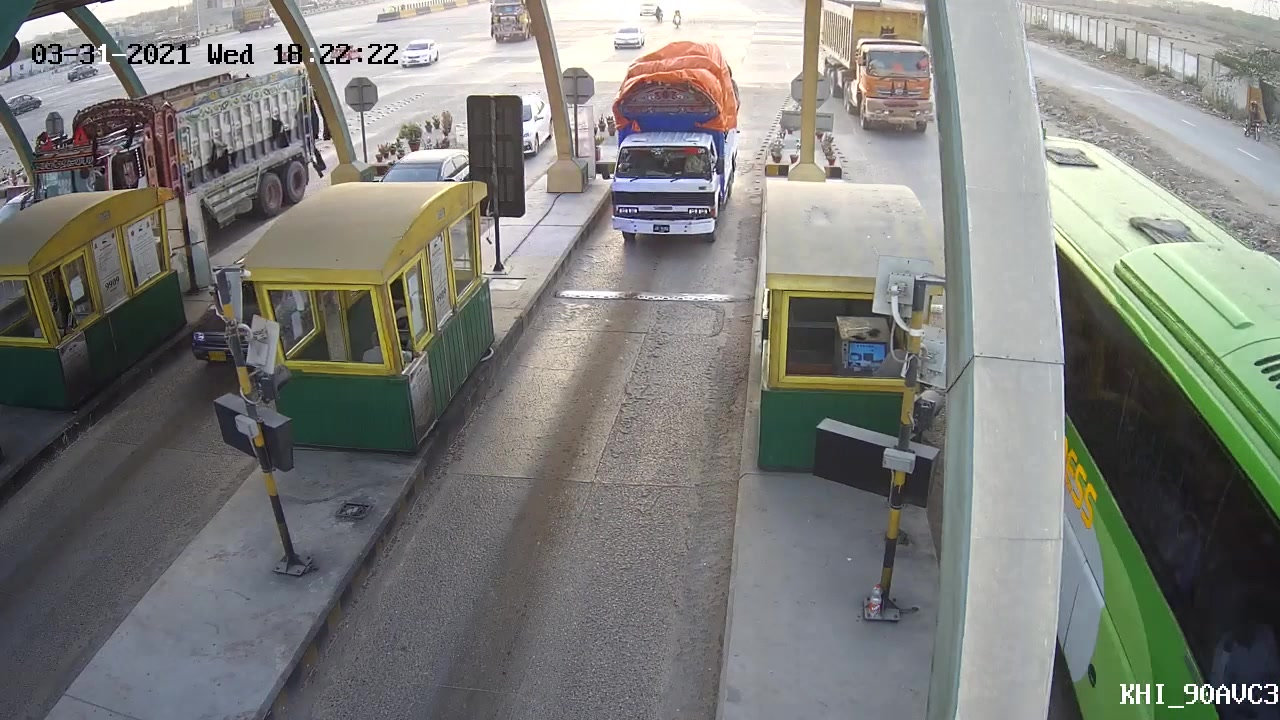F5: (596, 38, 752, 250)
